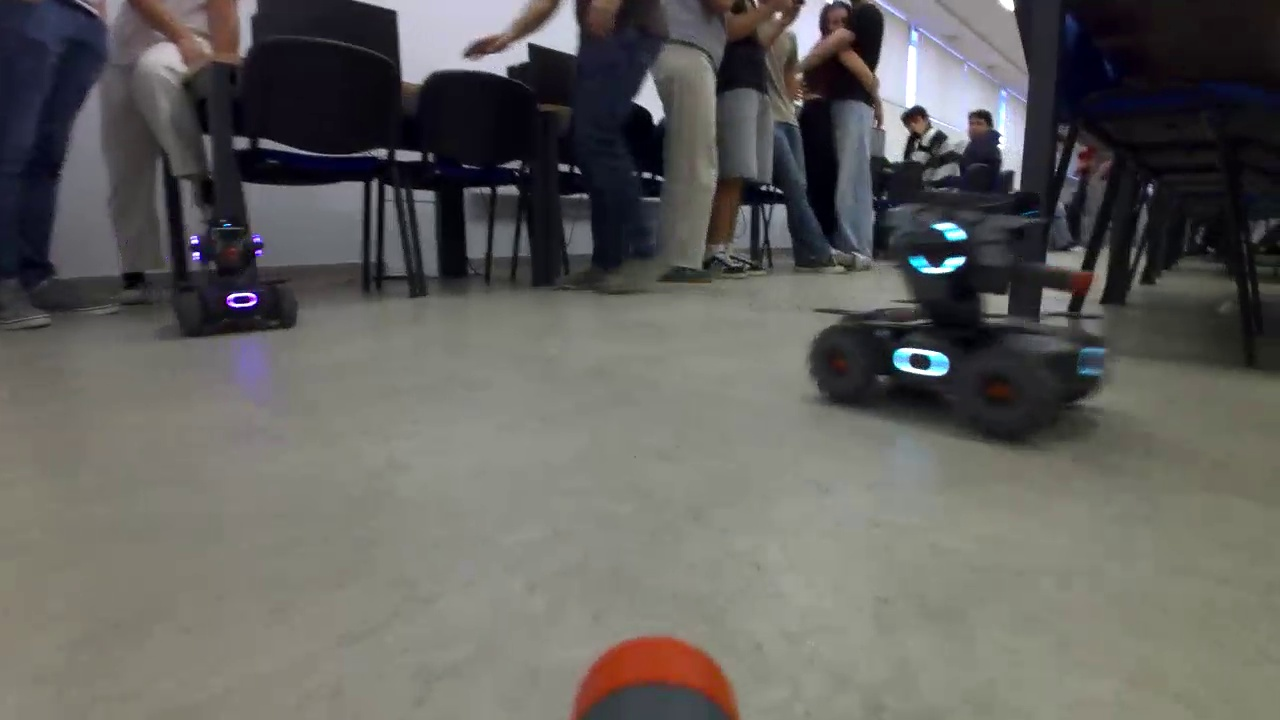robot: (818, 205, 1108, 457), (160, 220, 298, 337)
